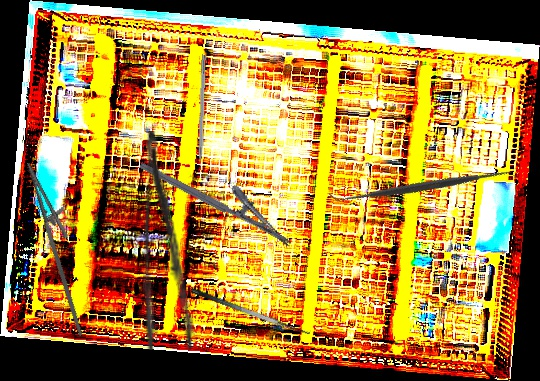Dressing Forceps: (143, 131, 195, 350)
Hook Surgical: (196, 54, 207, 180)
Needle Holder: (5, 156, 116, 337), (138, 140, 304, 249)
Spatula Surgical: (329, 92, 517, 280), (190, 277, 314, 341)
